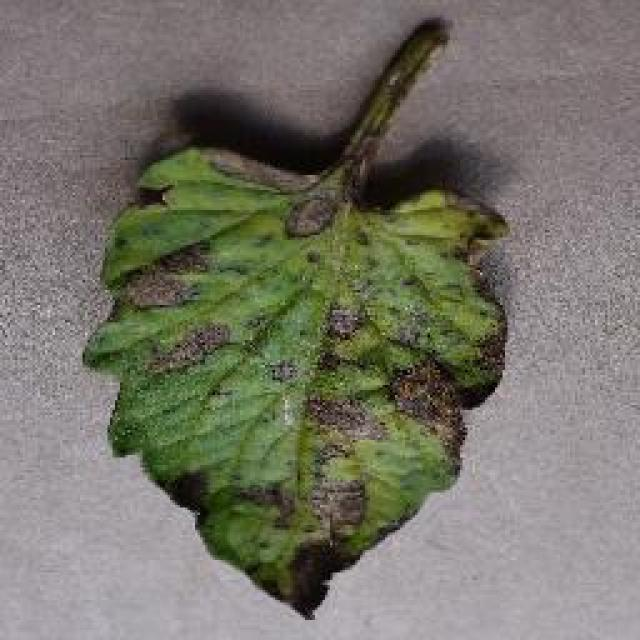Tomato___Early_blight: (71, 18, 520, 626)
